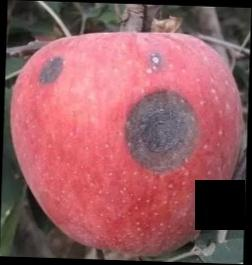rotten apple: (9, 34, 240, 254)
